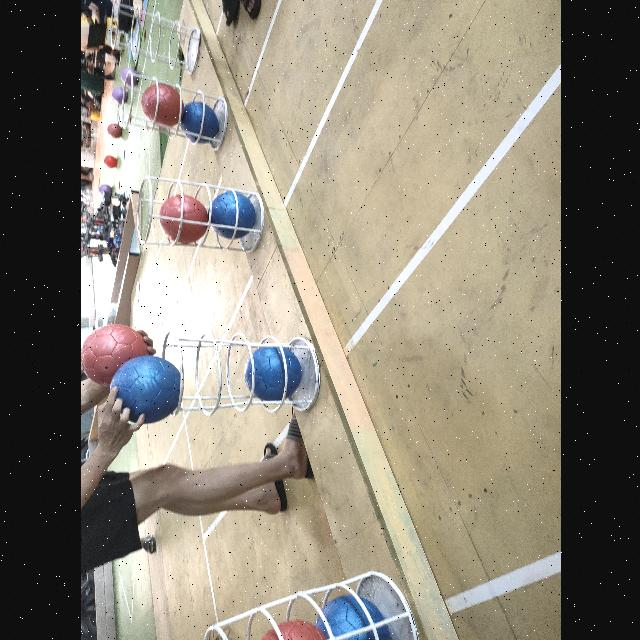B: (110, 356, 180, 424), (313, 596, 392, 640), (242, 346, 302, 402), (208, 191, 255, 241), (180, 102, 218, 144)
R: (80, 324, 150, 388), (158, 194, 206, 244), (140, 84, 184, 128), (254, 618, 332, 640)
